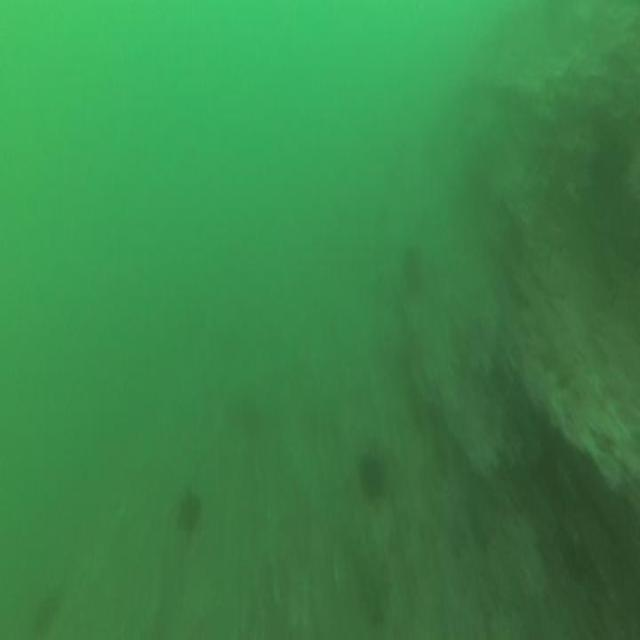echinus: (358, 439, 388, 512), (174, 485, 202, 537)
